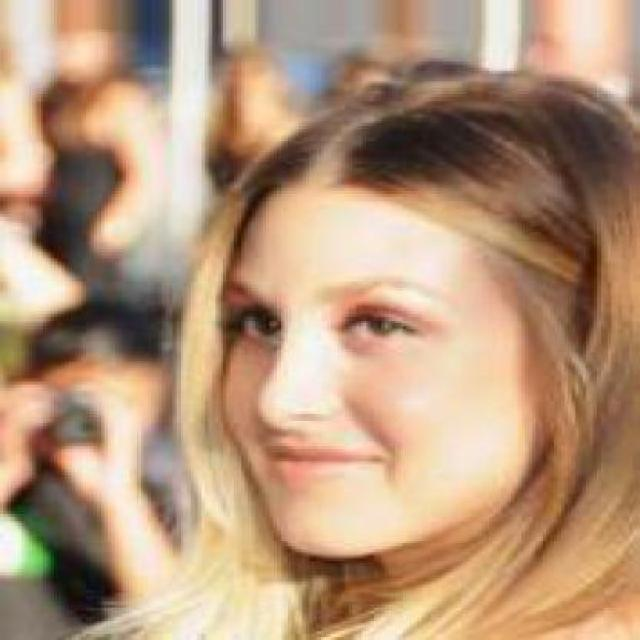closed-mouth: (261, 436, 384, 478)
